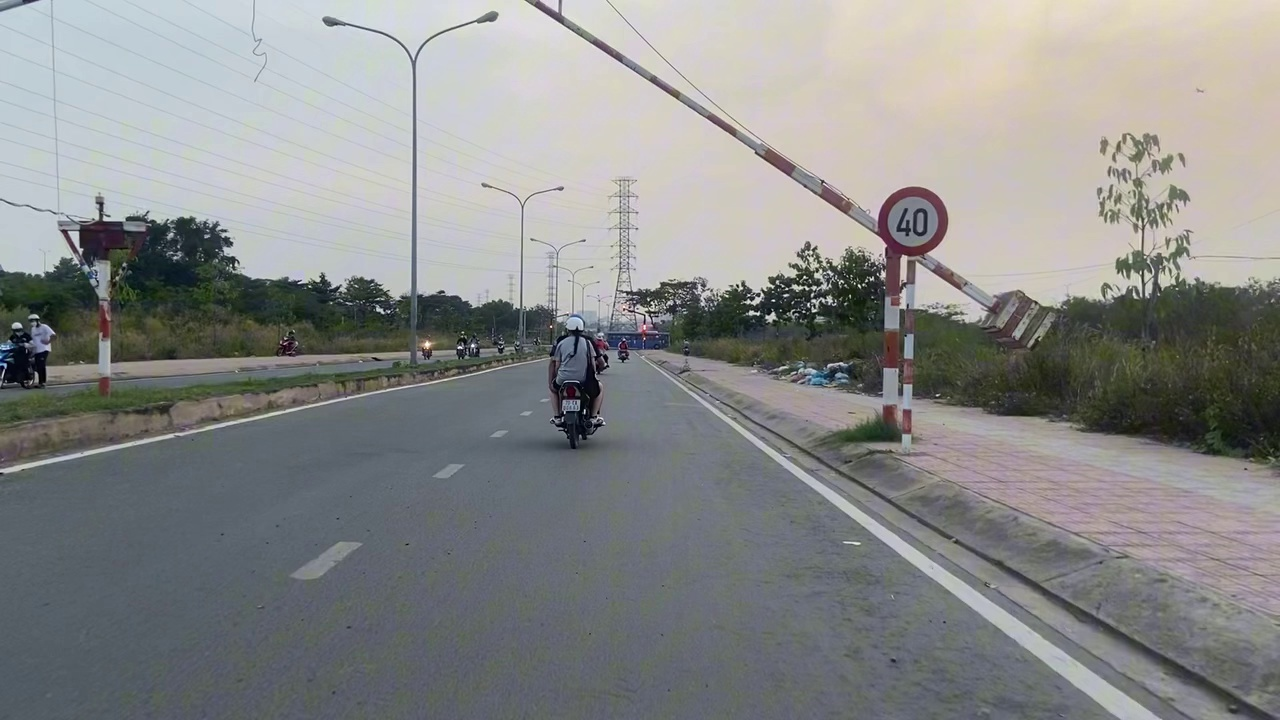gioi_han_40km: (878, 186, 949, 258)
